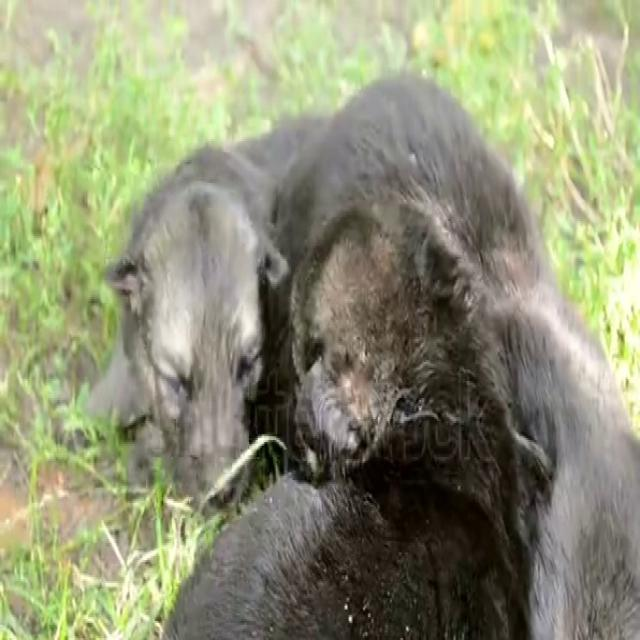normal_animals: (84, 67, 637, 636)
